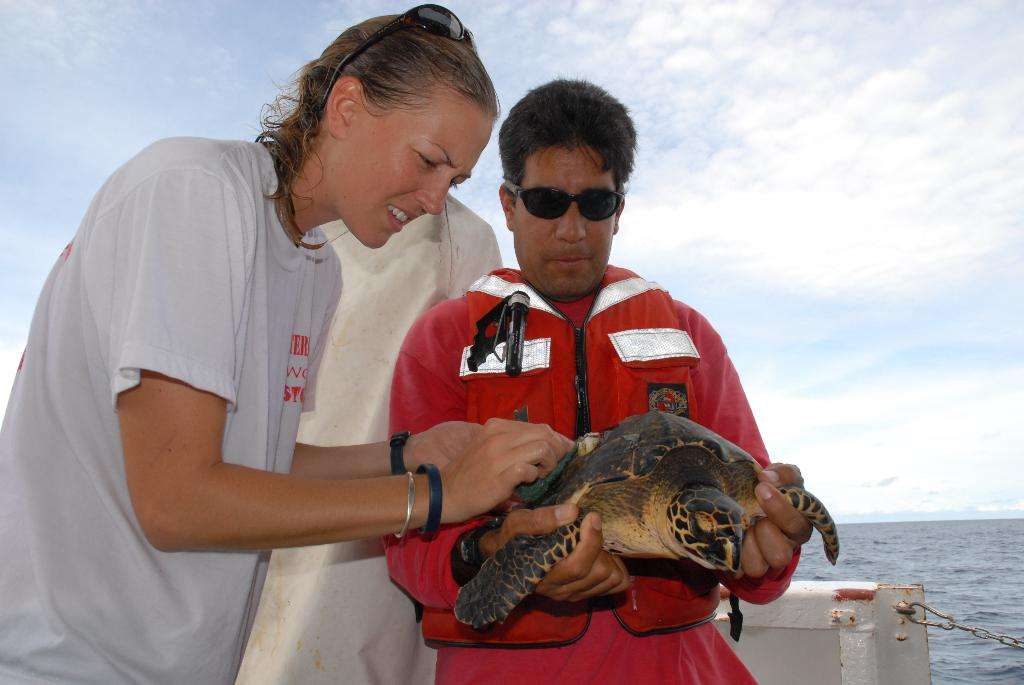Sea turtles: (453, 410, 833, 624)
